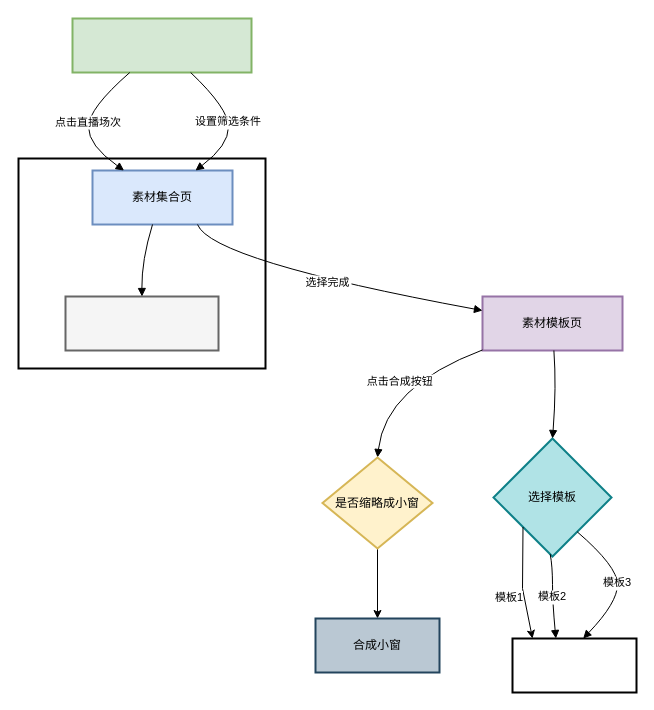
Image size: 654x710. Some labels were removed from this diagram. Each missing label, with the centre of its shape:
"直播素材Fragment" goes at [161,45].
"选择MP4素材" goes at [141,323].
"预览模板" goes at [574,665].
